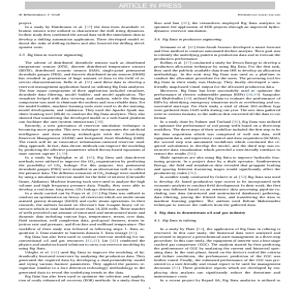text: (14, 20, 147, 284), (152, 20, 281, 208), (150, 211, 283, 285), (117, 1, 184, 12)
